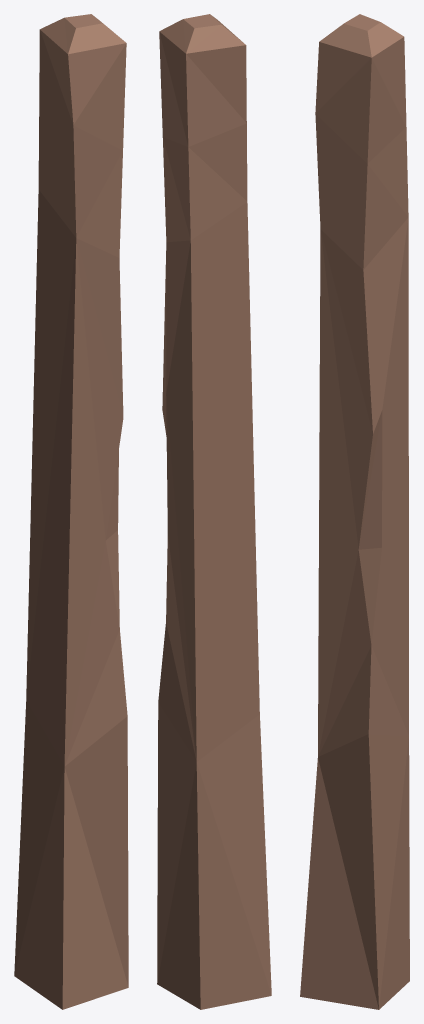
The model's file is fantasy_post_1.fbx.
3 views of the same model, side by side, from view 1: azimuth 30°, elevation 25°; view 2: azimuth 210°, elevation 25°; view 3: azimuth 330°, elevation 25° (orthographic).
Parts seen in each view (by area): view 1: Cube.057; view 2: Cube.057; view 3: Cube.057.
Boxes of the visible parts, x1,y1,x2,y2 form: Cube.057: (14,14,128,1009); Cube.057: (157,14,271,1009); Cube.057: (300,14,409,1009).
Size of the model in its own units: 24.08 by 300 by 26.38.
